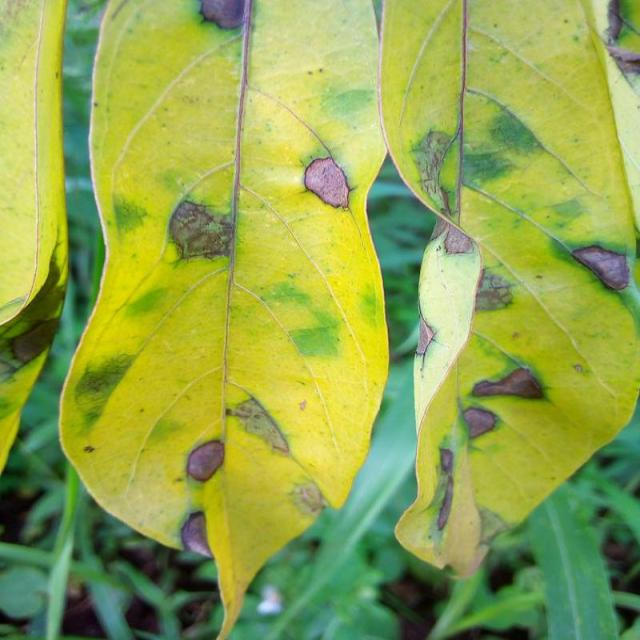cassava leaf: (57, 0, 390, 638), (377, 0, 639, 579), (0, 0, 70, 477)
